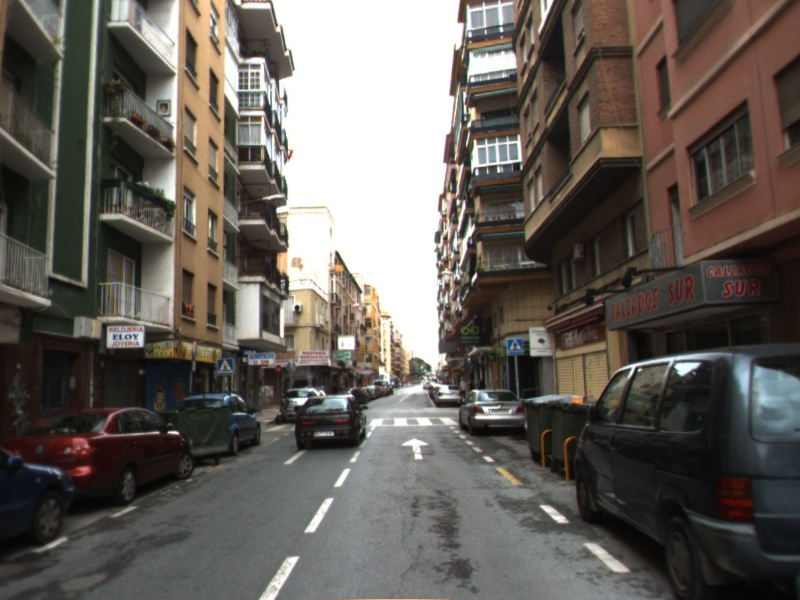STRAIGHT: (399, 436, 432, 461)
